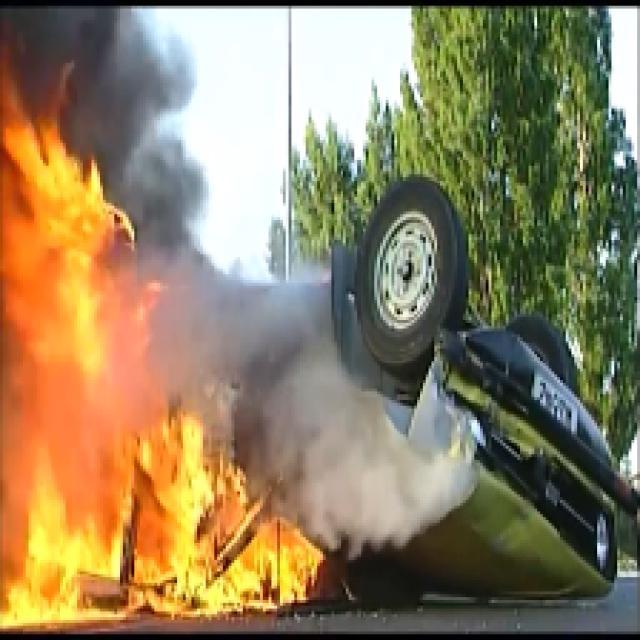Fire: (3, 91, 323, 640)
Smoke: (246, 308, 431, 546), (2, 3, 134, 143)
